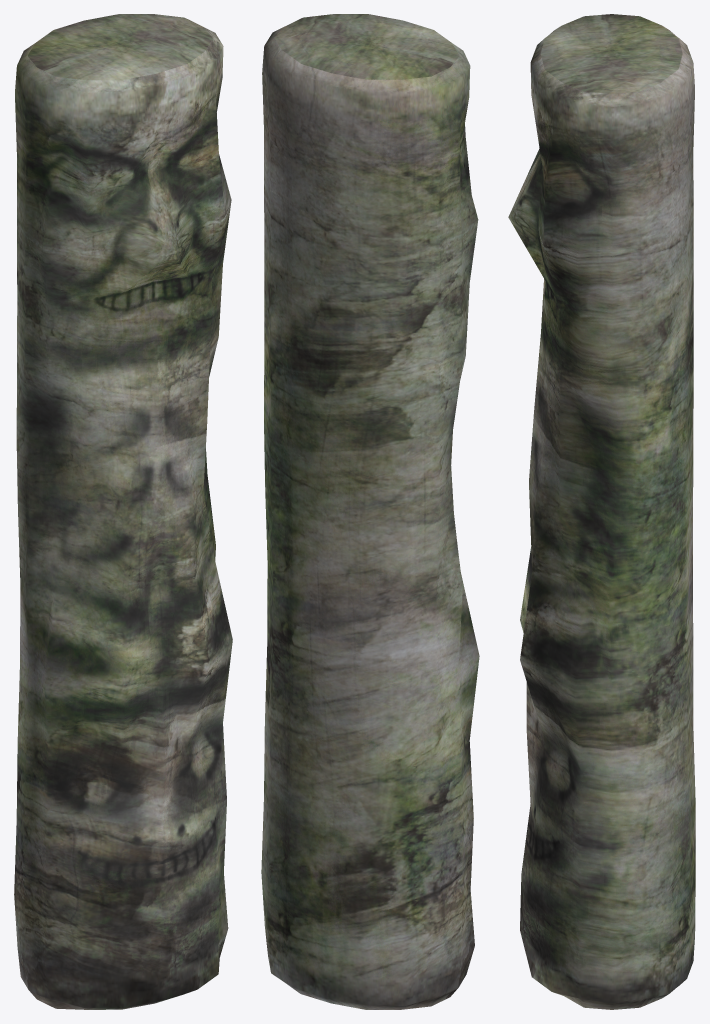
The model's file is totem.fbx.
3 renders of one model, left to right at view 1: azimuth 30°, elevation 25°; view 2: azimuth 150°, elevation 25°; view 3: azimuth 270°, elevation 25°, orthographic.
Visible parts, largest first — view 1: Totem; view 2: Totem; view 3: Totem.
Boxes of the visible parts, <box> form: Totem: <box>14,14,232,1009</box>; Totem: <box>261,14,479,1009</box>; Totem: <box>508,14,695,1009</box>.
Bounding box in the file's own units: 2.24 × 10.5 × 1.93.
